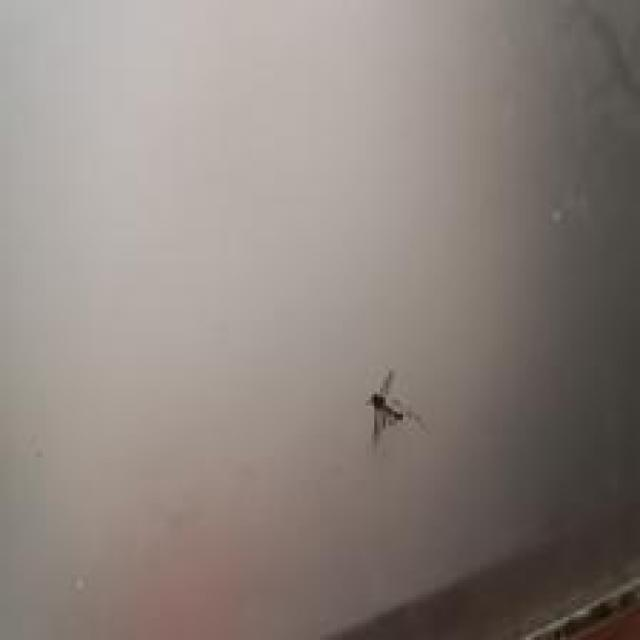Aedes albopictus: (363, 368, 426, 446)
